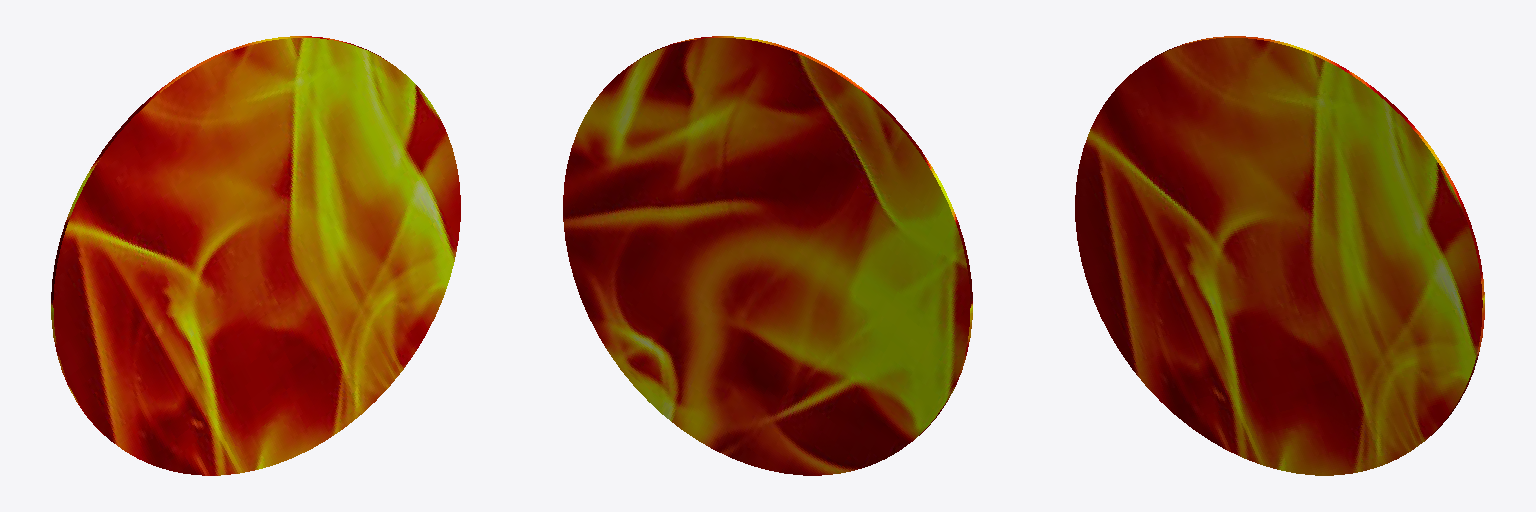
3 views of the same model, side by side, from view 1: azimuth 30°, elevation 25°; view 2: azimuth 150°, elevation 25°; view 3: azimuth 330°, elevation 25° (orthographic).
Parts seen in each view (by area): view 1: Fire_Disk; view 2: Fire_Disk; view 3: Fire_Disk.
Boxes of the visible parts, x1,y1,x2,y2 form: Fire_Disk: [51, 36, 460, 475]; Fire_Disk: [563, 36, 972, 475]; Fire_Disk: [1075, 36, 1484, 475].
Size of the model in its own units: 0.9998 by 0.9995 by 0.01.
1 materials, 1 textured.